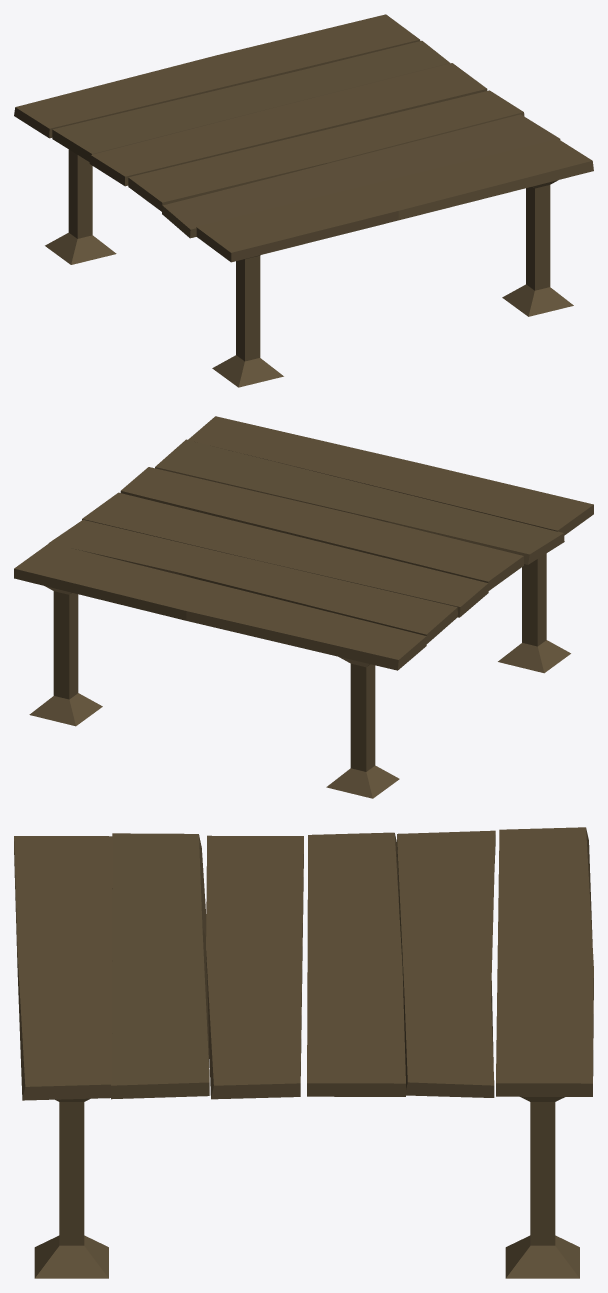
The model's file is roman_table_big.fbx.
3 renders of one model, top to bottom at view 1: azimuth 30°, elevation 25°; view 2: azimuth 150°, elevation 25°; view 3: azimuth 270°, elevation 25°, orthographic. The views are drawn at different scales.
Visible parts, largest first — view 1: Cube.072; view 2: Cube.072; view 3: Cube.072.
Boxes of the visible parts, x1,y1,x2,y2 form: Cube.072: (14,14,593,387); Cube.072: (14,416,593,798); Cube.072: (14,827,593,1278).
Bounding box in the file's own units: 2.48 × 0.9 × 2.34.
